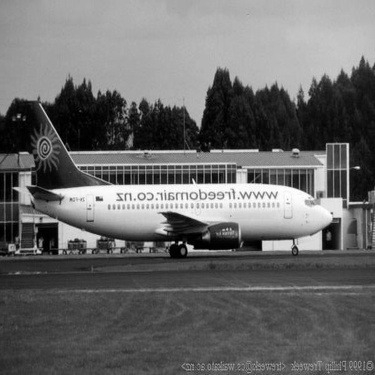airplane: (3, 77, 351, 289)
